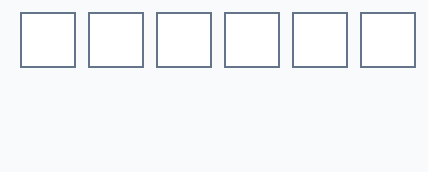
it: OtpInput › fills every box from a pasted Persian code and completes with Latin digits
The image size is (428, 172).
Click the field named "رقم ۱".
click(48, 40)  # box left=20, top=12, right=76, bottom=68
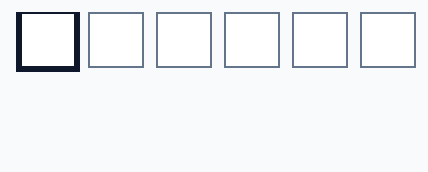
Type keys "۱۲۳۴۵۶"
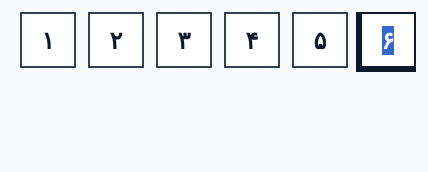
Check: the field named "رقم ۶" holds "۶", box left=360, top=12, right=416, bottom=68
